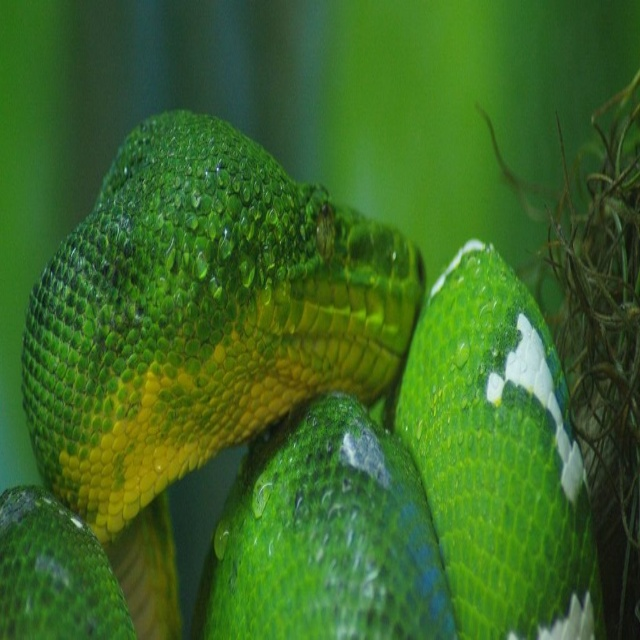Snake: (0, 106, 606, 636)
